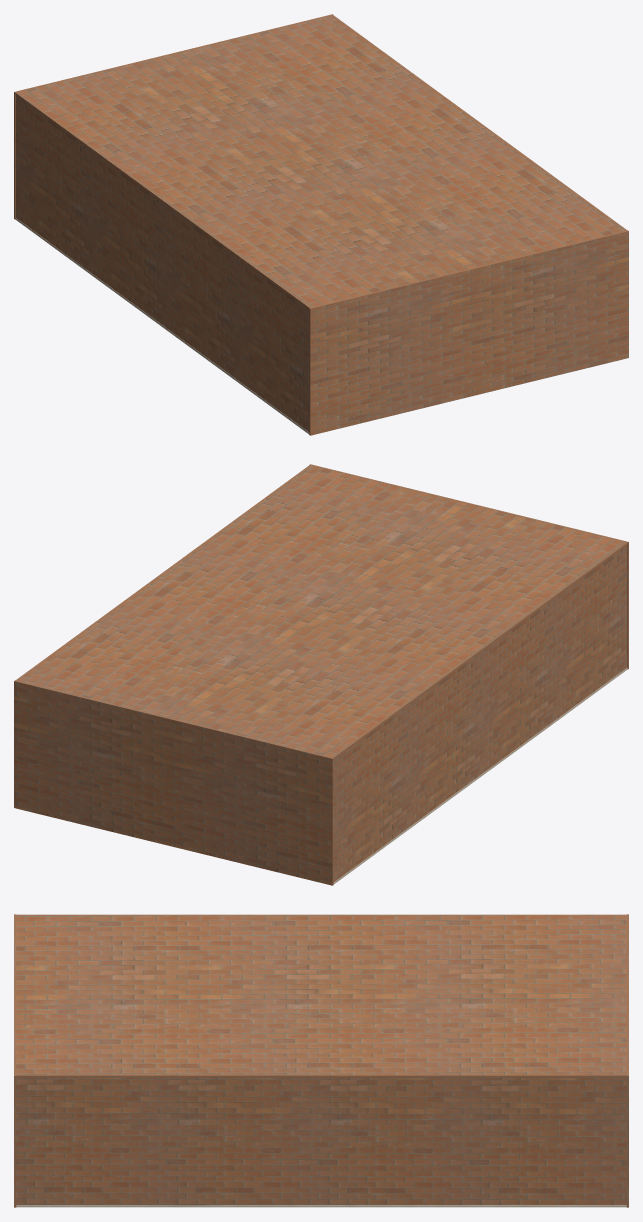
Rendered from Juego Baketball.fbx.
3 views of the same model, one above another, from view 1: azimuth 30°, elevation 25°; view 2: azimuth 150°, elevation 25°; view 3: azimuth 270°, elevation 25° (orthographic). The views are drawn at different scales.
Visible parts, largest first — view 1: Techo, Pared5, Pared4, Suelo1, Pared2, Pared3; view 2: Techo, Pared2, Pared4, Suelo1, Pared5, Pared3; view 3: Techo, Pared3, Suelo1, Pared4, Pared2, Pared5.
Boxes of the visible parts, <box> form: Techo: <box>15,15,624,309</box>; Pared5: <box>309,230,628,435</box>; Pared4: <box>15,92,311,431</box>; Suelo1: <box>15,217,309,434</box>; Pared2: <box>14,14,333,219</box>; Pared3: <box>330,14,627,231</box>; Techo: <box>18,465,627,759</box>; Pared2: <box>14,680,333,885</box>; Pared4: <box>331,541,627,881</box>; Suelo1: <box>333,667,627,884</box>; Pared5: <box>309,464,628,669</box>; Pared3: <box>15,464,311,681</box>; Techo: <box>16,915,626,1077</box>; Pared3: <box>14,1074,628,1204</box>; Suelo1: <box>16,1205,626,1207</box>; Pared4: <box>14,914,628,915</box>; Pared2: <box>626,914,628,1207</box>; Pared5: <box>14,914,16,1207</box>.
Bounding box in the file's own units: 318 × 121 × 512.
